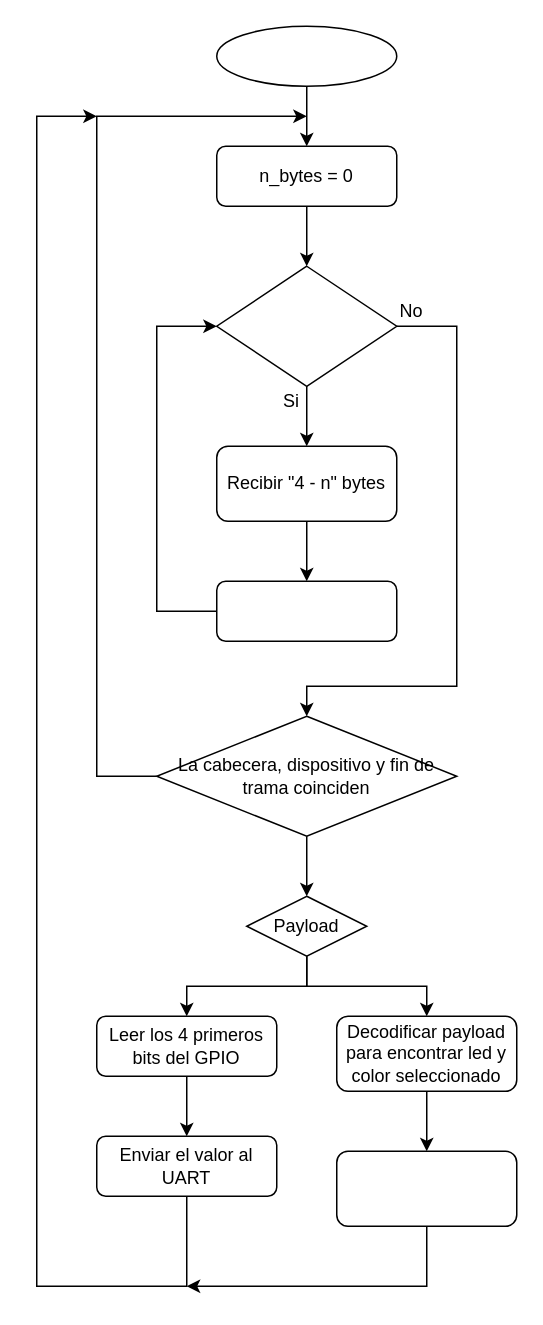
Some shapes in this 543 by 1325 pixel diagram are drawn without their labels. Here are the shapes that lost their labels. From the top down, the centre of each, then its label:
[306,55]: Main
[306,325]: n != 4
[306,610]: n += bytes recibidos
[426,1188]: Escribir los bits correspondientes del GPIO
